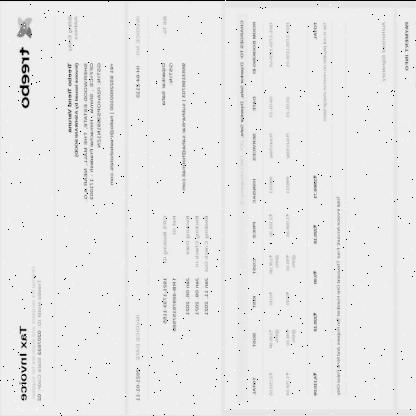Paragraph: (66, 13, 102, 202), (160, 209, 212, 334), (17, 262, 43, 404), (238, 16, 246, 206), (160, 13, 174, 107), (336, 193, 342, 397), (107, 58, 116, 186), (180, 58, 188, 192), (18, 44, 31, 111), (134, 310, 142, 404), (134, 13, 142, 99), (322, 20, 327, 122), (380, 19, 388, 82), (404, 19, 410, 71)
Table: (248, 13, 320, 400)
